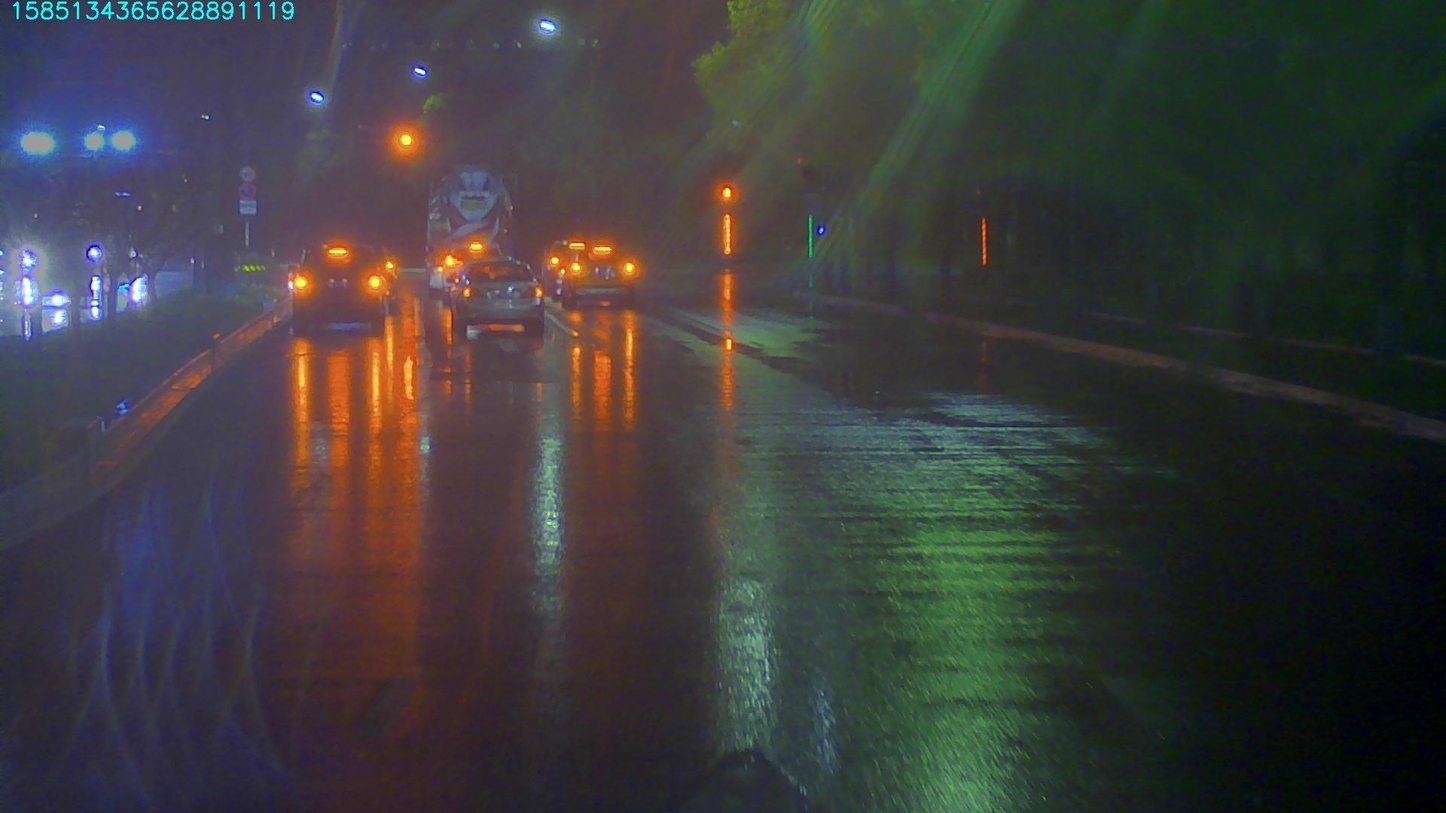red: (392, 127, 416, 153)
